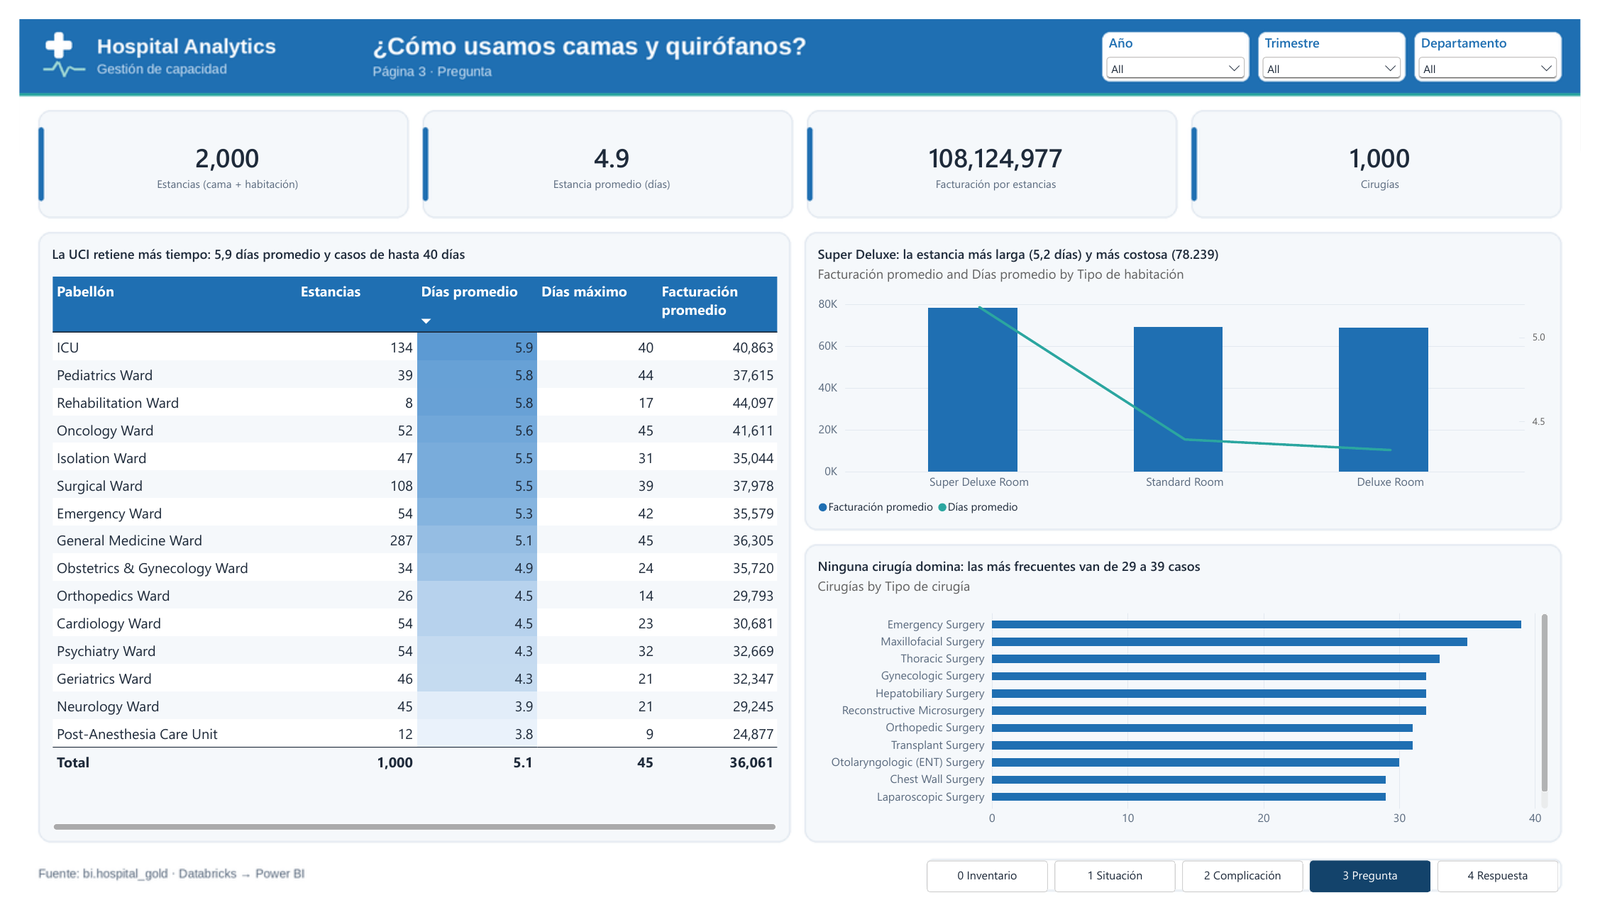

The dashboard page shown, as its layout file describes it:
{"tool":"powerbi","page":{"name":"3 Pregunta","canvas":[1920,1080],"ordinal":3},"visuals":[{"type":"slicer","fields":{"Values":["dim_date.year"]},"box":[1332,18,180,60],"z":0},{"type":"slicer","fields":{"Values":["dim_date.quarter_name"]},"box":[1524,18,180,60],"z":1000},{"type":"card","fields":{"Values":["_Medidas.Total Estancias"]},"box":[39,120,433.5,120],"z":1000},{"type":"slicer","fields":{"Values":["dim_departments.department_name"]},"box":[1716,18,180,60],"z":2000},{"type":"card","fields":{"Values":["_Medidas.Estancia Promedio (días)"]},"box":[511.5,120,433.5,120],"z":2000},{"type":"card","fields":{"Values":["_Medidas.Facturación Estancias"]},"box":[984,120,433.5,120],"z":3000},{"type":"pageNavigator","box":[1116,1035,780,39],"z":3000},{"type":"card","fields":{"Values":["_Medidas.Cirugías (tarjeta)"]},"box":[1456.5,120,433.5,120],"z":4000},{"type":"tableEx","title":"La UCI retiene más tiempo: 5,9 días promedio y casos de hasta 40 días","fields":{"Values":["dim_beds.ward_name","_Medidas.Estancias en Cama","_Medidas.Estancia Prom. Cama (días)","_Medidas.Estancia Máx. Cama (días)","_Medidas.Facturación Prom. Cama"]},"box":[24,264,924,750],"z":5000},{"type":"lineClusteredColumnComboChart","title":"Super Deluxe: la estancia más larga (5,2 días) y más costosa (78.239)","fields":{"Category":["dim_rooms.room_type"],"Y":["_Medidas.Facturación Prom. Habitación"],"Y2":["_Medidas.Estancia Prom. Habitación (días)"]},"box":[966,264,930,366],"z":6000},{"type":"clusteredBarChart","title":"Ninguna cirugía domina: las más frecuentes van de 29 a 39 casos","fields":{"Category":["fact_surgeries.surgery_type"],"Y":["_Medidas.Cirugías Top 10"]},"box":[966,648,930,366],"z":7000}]}

Visuals, with their boxes in screenshot pixels (x1, y1, x2, y2), scaled from the page's 1920x1080 canvas onto the 1600x917 screenshot:
slicer - dim_date.year: bbox=(1110, 15, 1260, 66)
slicer - dim_date.quarter_name: bbox=(1270, 15, 1420, 66)
card - _Medidas.Total Estancias: bbox=(32, 102, 394, 204)
slicer - dim_departments.department_name: bbox=(1430, 15, 1580, 66)
card - _Medidas.Estancia Promedio (días): bbox=(426, 102, 788, 204)
card - _Medidas.Facturación Estancias: bbox=(820, 102, 1181, 204)
pageNavigator: bbox=(930, 879, 1580, 912)
card - _Medidas.Cirugías (tarjeta): bbox=(1214, 102, 1575, 204)
"La UCI retiene más tiempo: 5,9 días promedio y casos de hasta 40 días" tableEx: bbox=(20, 224, 790, 861)
"Super Deluxe: la estancia más larga (5,2 días) y más costosa (78.239)" lineClusteredColumnComboChart: bbox=(805, 224, 1580, 535)
"Ninguna cirugía domina: las más frecuentes van de 29 a 39 casos" clusteredBarChart: bbox=(805, 550, 1580, 861)
